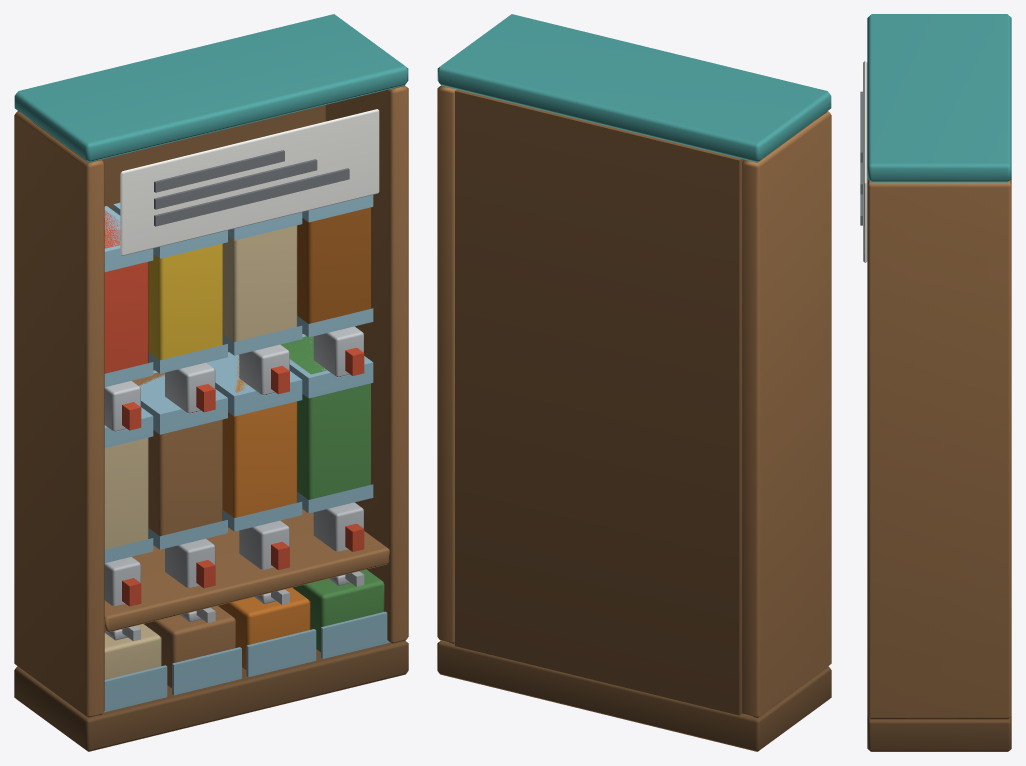
The model's file is BulkBins_Gravity_10.glb.
The picture shows the model from 3 angles, left to right: view 1: azimuth 30°, elevation 25°; view 2: azimuth 150°, elevation 25°; view 3: azimuth 270°, elevation 25°; orthographic projection. The views are drawn at different scales.
Visible parts, largest first — view 1: SM_BulkBins_Gravity_10; view 2: SM_BulkBins_Gravity_10; view 3: SM_BulkBins_Gravity_10.
Boxes of the visible parts, x1,y1,x2,y2 form: SM_BulkBins_Gravity_10: (14,14,408,751); SM_BulkBins_Gravity_10: (437,14,831,751); SM_BulkBins_Gravity_10: (860,14,1011,751).
Size of the model in its own units: 1 by 1.8 by 0.42.
Materials: 1 (1 with a texture image).
